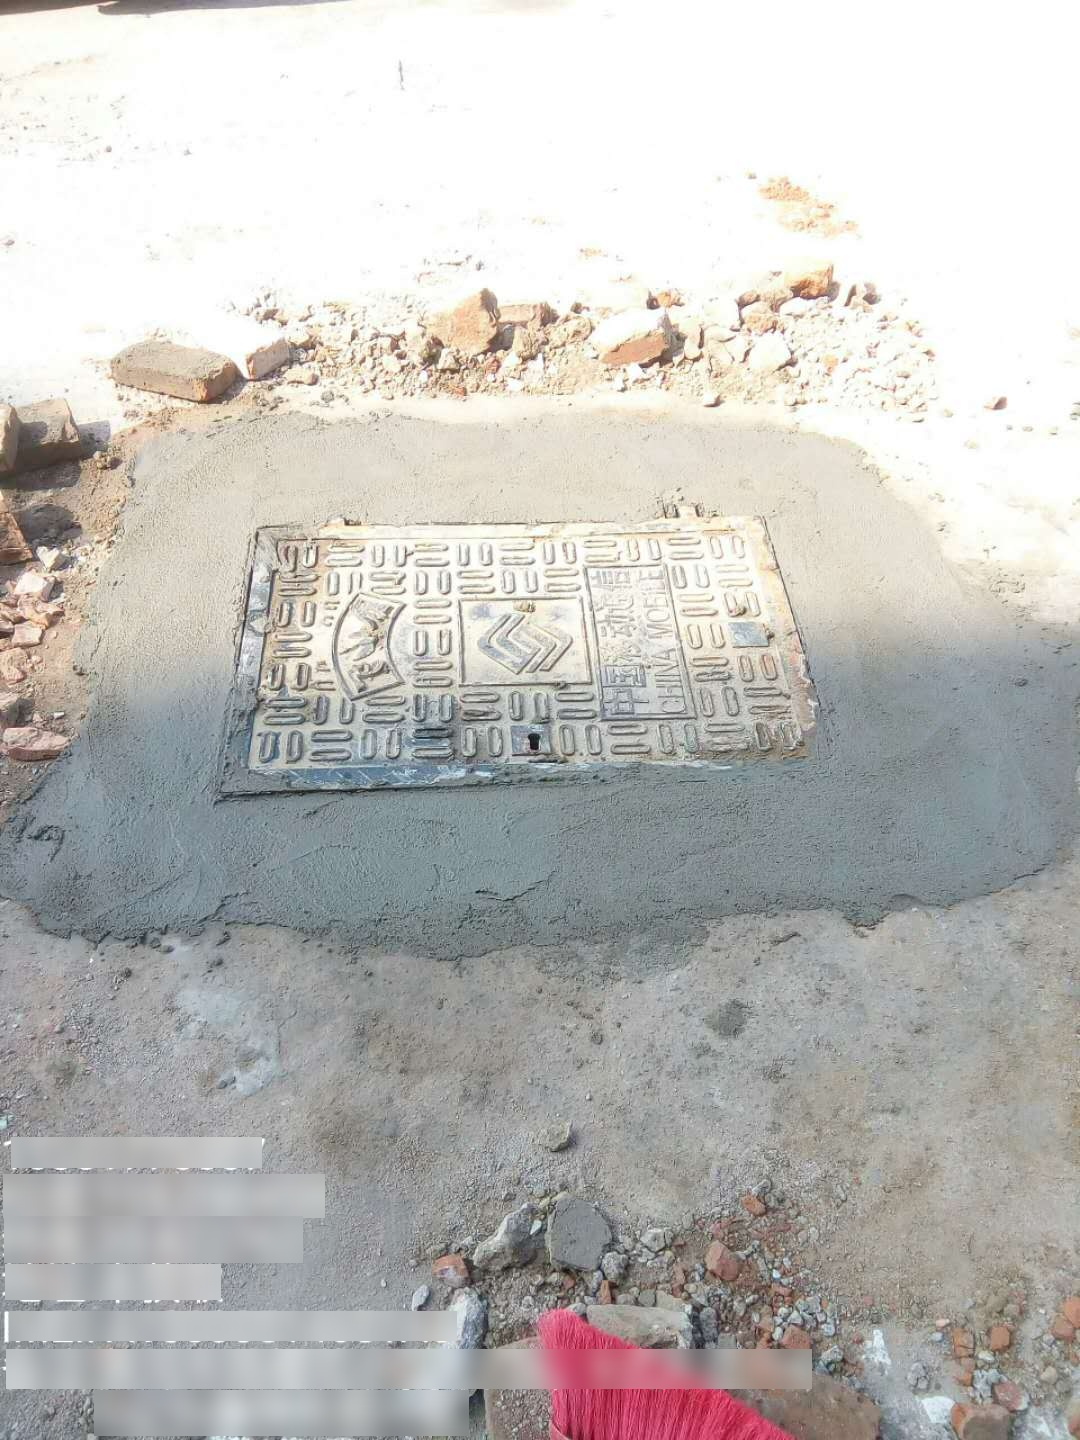good: (217, 505, 832, 795)
